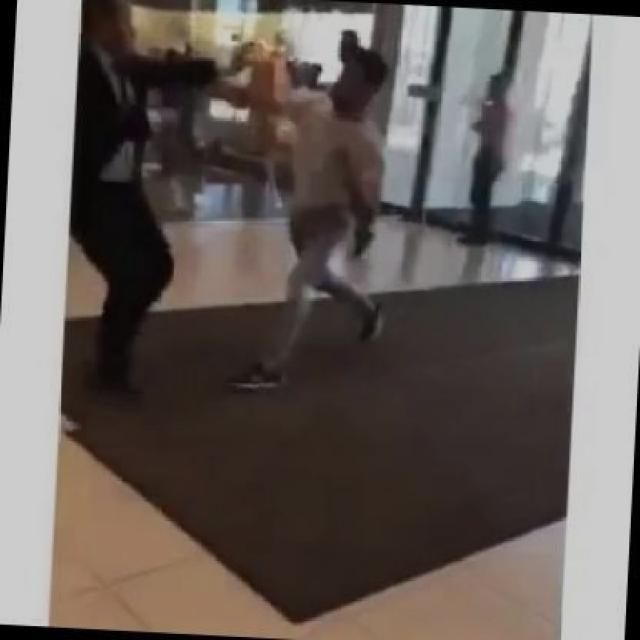fight: (72, 2, 388, 396)
